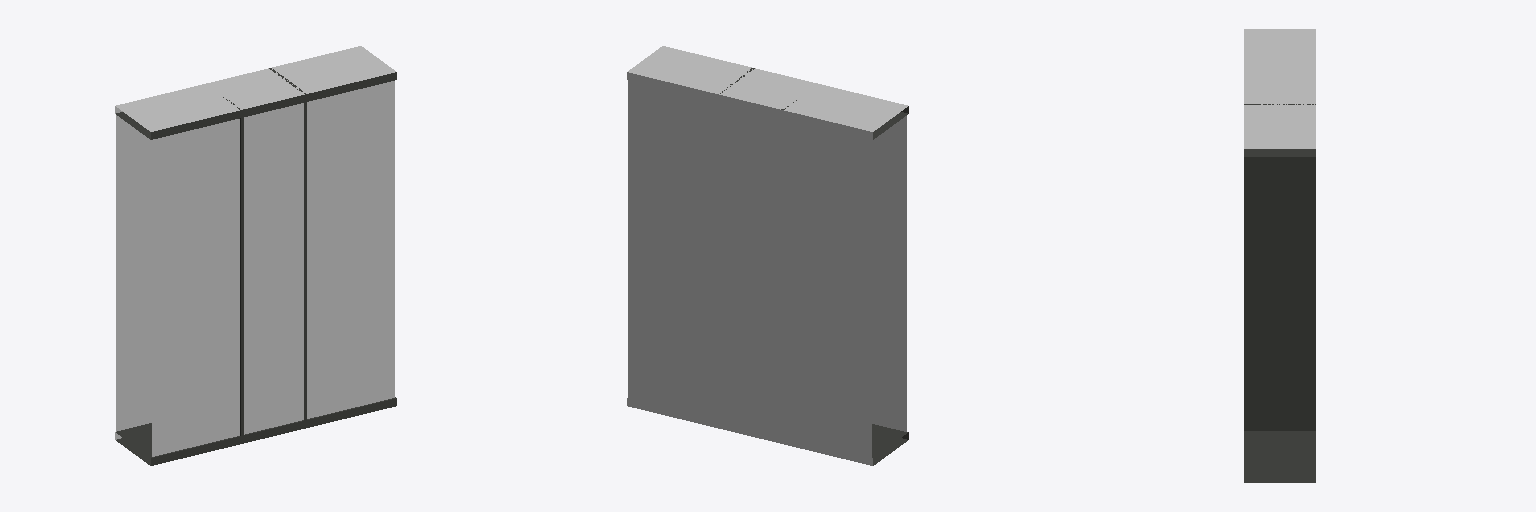
3 renders of one model, left to right at view 1: azimuth 30°, elevation 25°; view 2: azimuth 150°, elevation 25°; view 3: azimuth 270°, elevation 25°, orthographic.
Parts seen in each view (by area): view 1: main, sidea, sideb; view 2: main, sidea, sideb; view 3: sideb, main.
Part boxes in pixels (x1,y1,x2,y2): main: (115, 46, 396, 465); sidea: (206, 76, 273, 443); sideb: (239, 68, 306, 435); main: (627, 46, 908, 465); sidea: (750, 76, 817, 443); sideb: (717, 68, 784, 435); sideb: (1244, 89, 1315, 430); main: (1244, 29, 1315, 482).
Bounding box in the file's own units: 0.5063 × 0.6562 × 0.1281.
3 materials, 1 textured.